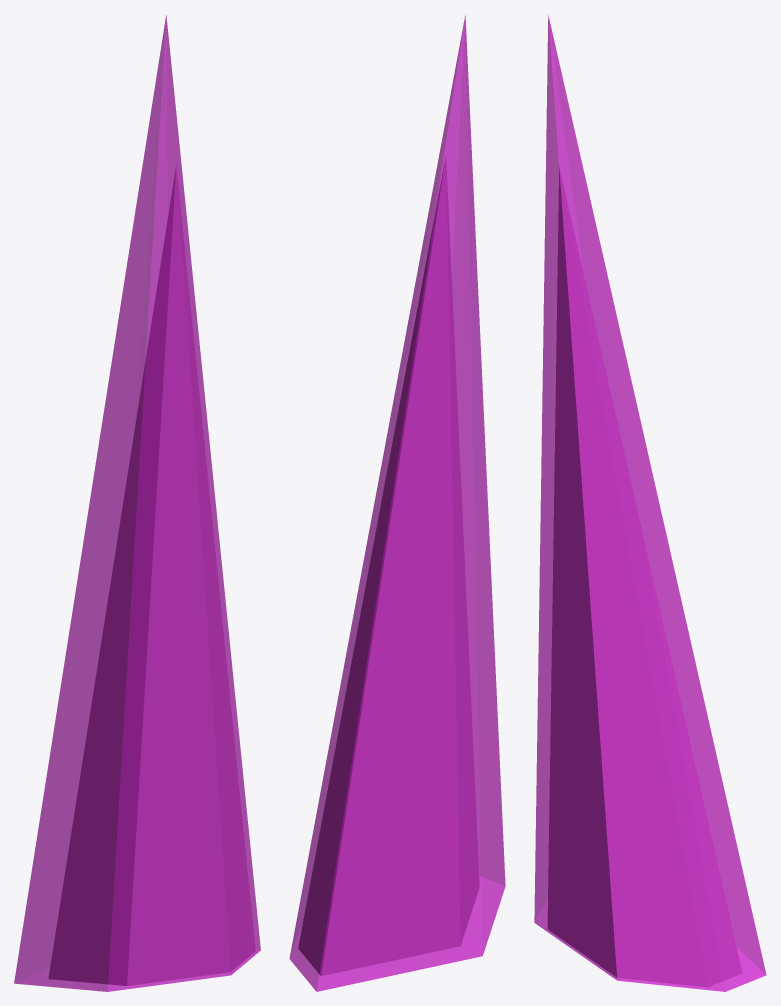
Rendered from crystal4.fbx.
The picture shows the model from 3 angles, left to right: view 1: azimuth 30°, elevation 25°; view 2: azimuth 150°, elevation 25°; view 3: azimuth 270°, elevation 25°; orthographic projection. The views are drawn at different scales.
Visible parts, largest first — view 1: polySurface48; view 2: polySurface48; view 3: polySurface48.
Part boxes in pixels (bbox=[...]): polySurface48: bbox=[14, 15, 260, 991]; polySurface48: bbox=[289, 14, 505, 991]; polySurface48: bbox=[534, 15, 766, 991].
Size of the model in its own units: 2.32 by 10.48 by 2.35.
